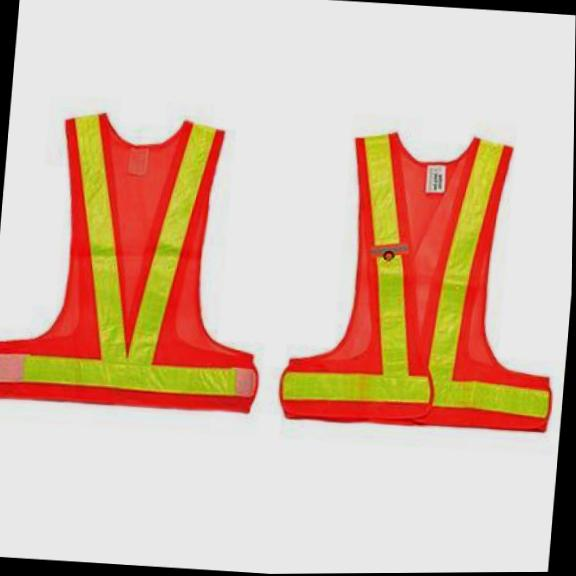safety_vest: (275, 116, 574, 436), (0, 99, 285, 416)
